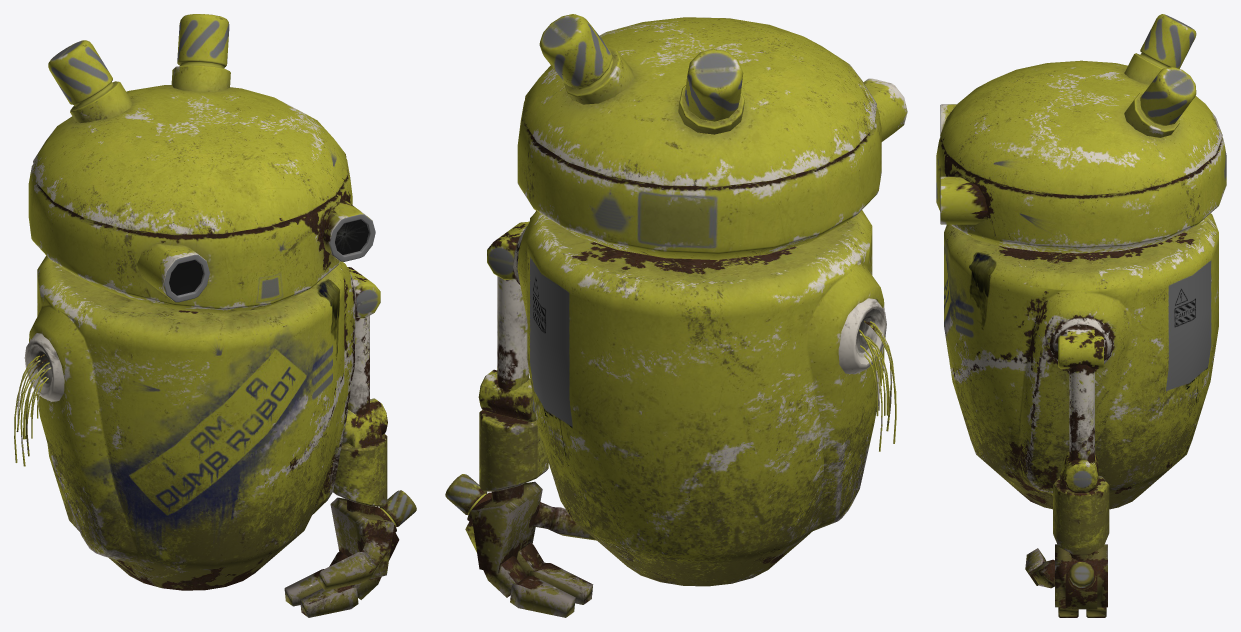
The model's file is robot.glb.
The picture shows the model from 3 angles, left to right: view 1: azimuth 30°, elevation 25°; view 2: azimuth 150°, elevation 25°; view 3: azimuth 270°, elevation 25°; orthographic projection. The views are drawn at different scales.
Parts seen in each view (by area): view 1: GarageBoxes9; view 2: GarageBoxes9; view 3: GarageBoxes9.
Part boxes in pixels (x1=…): GarageBoxes9: x1=14, y1=14, x2=416, y2=617; GarageBoxes9: x1=445, y1=14, x2=907, y2=617; GarageBoxes9: x1=936, y1=14, x2=1226, y2=617.
Bounding box in the file's own units: 1.05 × 1.43 × 0.7399.
Materials: 1 (1 with a texture image).
